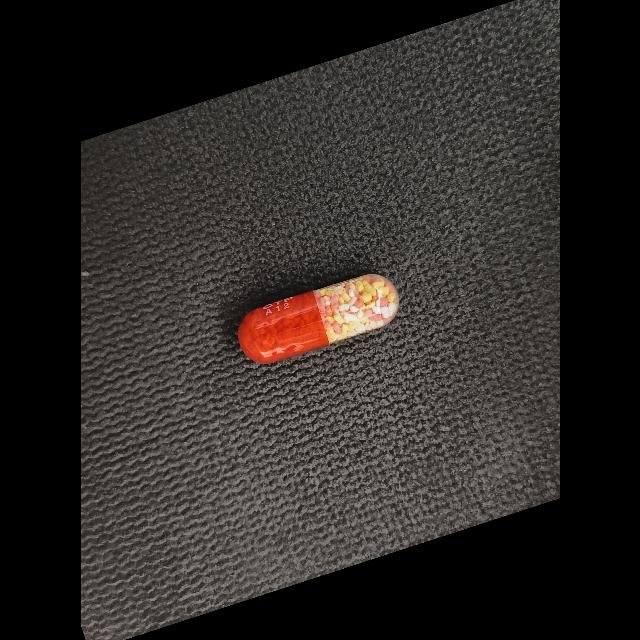Intact Capsule: (238, 274, 399, 364)
